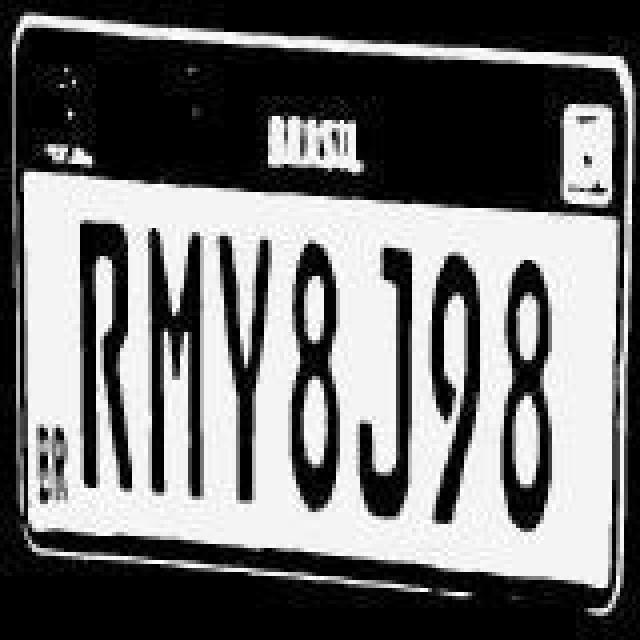8: (288, 238, 344, 514), (500, 254, 556, 530)
9: (424, 254, 488, 522)
J: (350, 240, 418, 520)
M: (142, 230, 210, 506)
R: (76, 226, 132, 486)
Y: (222, 230, 274, 506)
